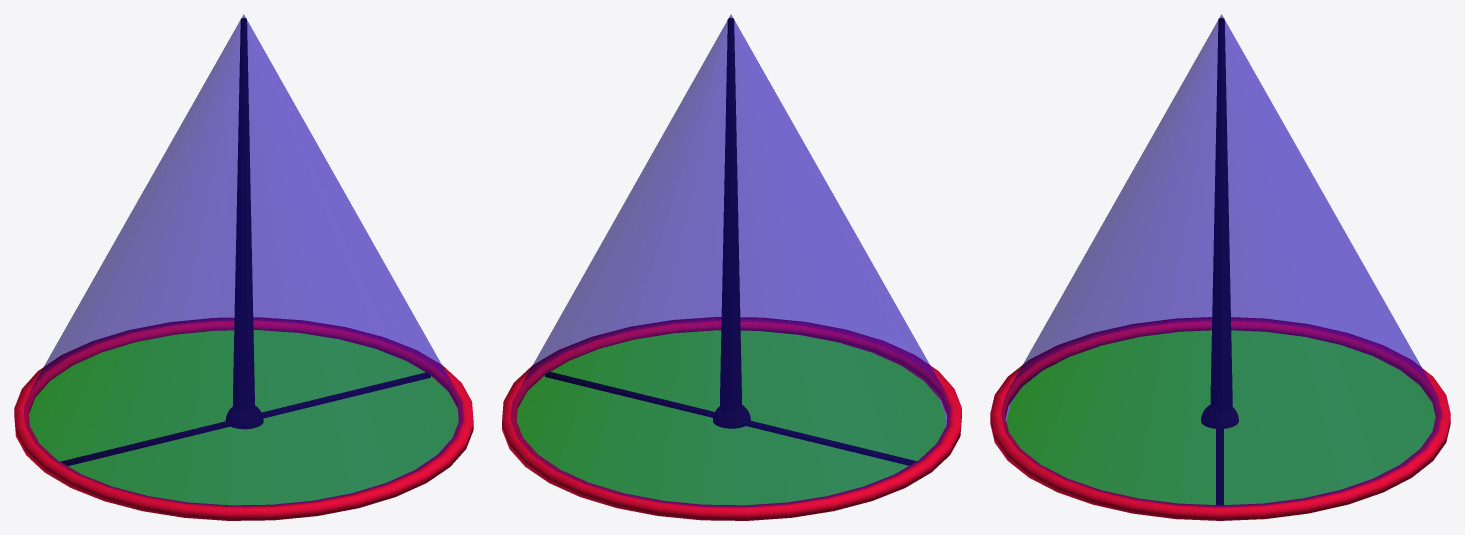
The model's file is kerucut.glb.
3 views of the same model, side by side, from view 1: azimuth 30°, elevation 25°; view 2: azimuth 150°, elevation 25°; view 3: azimuth 270°, elevation 25° (orthographic).
Parts seen in each view (by area): view 1: Cone, Circle.017, Circle.001, Circle.015, Plane.005, Sphere.047; view 2: Cone, Circle.017, Circle.001, Circle.015, Plane.005, Sphere.047; view 3: Cone, Circle.017, Circle.001, Circle.015, Sphere.047, Plane.005.
Part boxes in pixels (x1=…): Cone: x1=24, y1=14, x2=463, y2=506; Circle.017: x1=29, y1=330, x2=458, y2=505; Circle.001: x1=14, y1=317, x2=473, y2=520; Circle.015: x1=233, y1=18, x2=254, y2=410; Plane.005: x1=61, y1=372, x2=430, y2=465; Sphere.047: x1=225, y1=406, x2=263, y2=429; Cone: x1=511, y1=14, x2=950, y2=507; Circle.017: x1=516, y1=330, x2=945, y2=505; Circle.001: x1=502, y1=317, x2=961, y2=520; Circle.015: x1=720, y1=18, x2=741, y2=412; Plane.005: x1=545, y1=371, x2=916, y2=465; Sphere.047: x1=713, y1=405, x2=750, y2=428; Cone: x1=1001, y1=14, x2=1441, y2=506; Circle.017: x1=1006, y1=330, x2=1435, y2=504; Circle.001: x1=990, y1=317, x2=1450, y2=520; Circle.015: x1=1210, y1=18, x2=1232, y2=411; Sphere.047: x1=1201, y1=405, x2=1238, y2=428; Plane.005: x1=1216, y1=426, x2=1223, y2=505.
Bounding box in the file's own units: 4.14 × 4.21 × 4.14.
